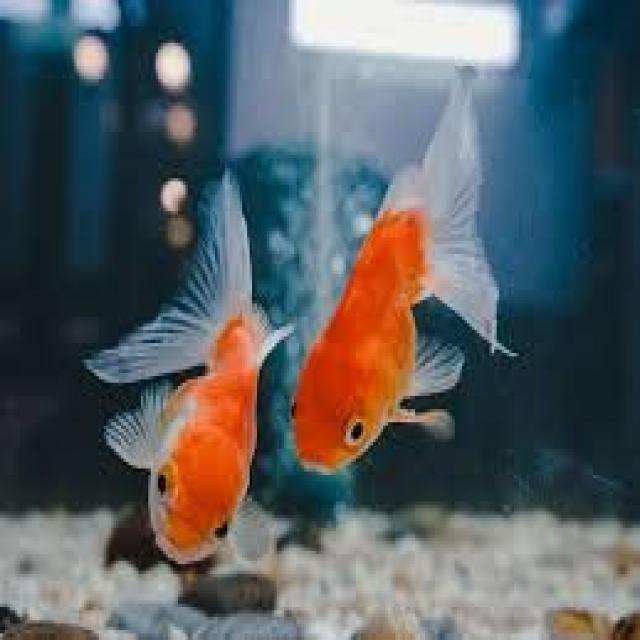Gold-Fish: (296, 36, 564, 542), (105, 142, 282, 594)
